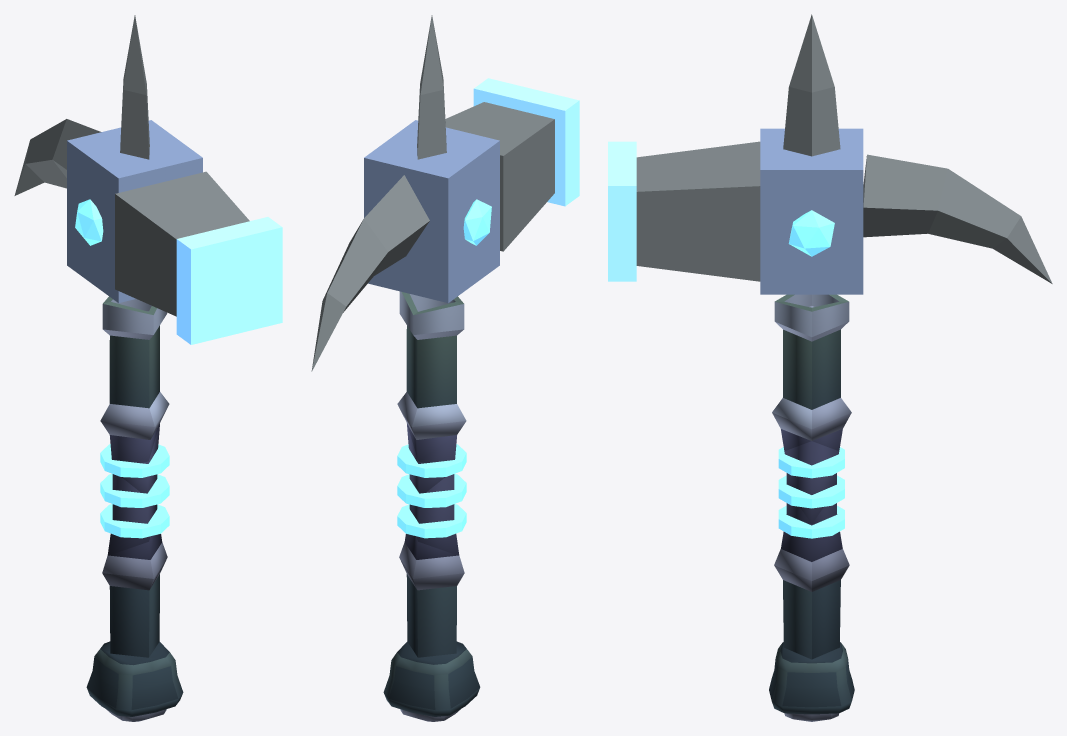
Rendered from hammer_rare.glb.
3 renders of one model, left to right at view 1: azimuth 30°, elevation 25°; view 2: azimuth 150°, elevation 25°; view 3: azimuth 270°, elevation 25°, orthographic.
Visible parts, largest first — view 1: hammer_rare; view 2: hammer_rare; view 3: hammer_rare.
Part boxes in pixels (box(x1,y1,x2,y2)): hammer_rare: box(14, 15, 282, 721); hammer_rare: box(311, 15, 579, 721); hammer_rare: box(608, 14, 1052, 721).
Size of the model in its own units: 21.83 by 136 by 77.5.
